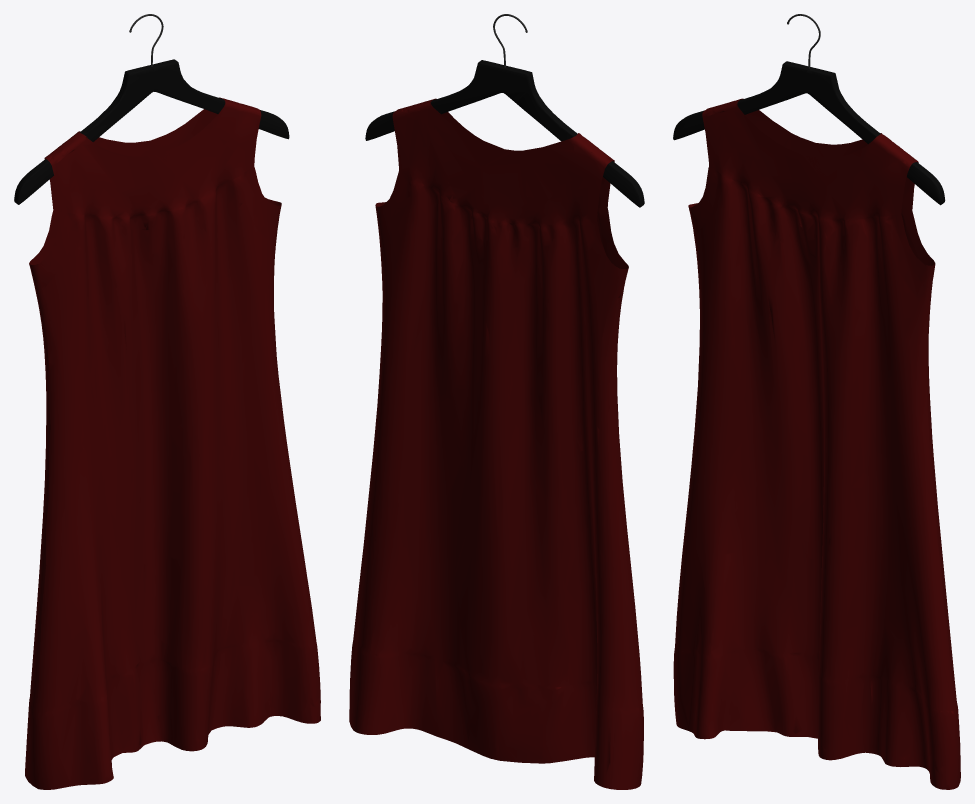
Rendered from Dressed.FBX.
The picture shows the model from 3 angles, left to right: view 1: azimuth 30°, elevation 25°; view 2: azimuth 150°, elevation 25°; view 3: azimuth 330°, elevation 25°; orthographic projection. The views are drawn at different scales.
Parts seen in each view (by area): view 1: Dressed, Hanger; view 2: Dressed, Hanger; view 3: Dressed, Hanger.
Boxes of the visible parts, <box> form: Dressed: <box>25,97,320,789</box>; Hanger: <box>14,14,289,204</box>; Dressed: <box>349,98,643,789</box>; Hanger: <box>365,14,644,207</box>; Dressed: <box>673,98,960,789</box>; Hanger: <box>673,14,945,205</box>.
Size of the model in its own units: 39.05 by 93.59 by 11.91.
